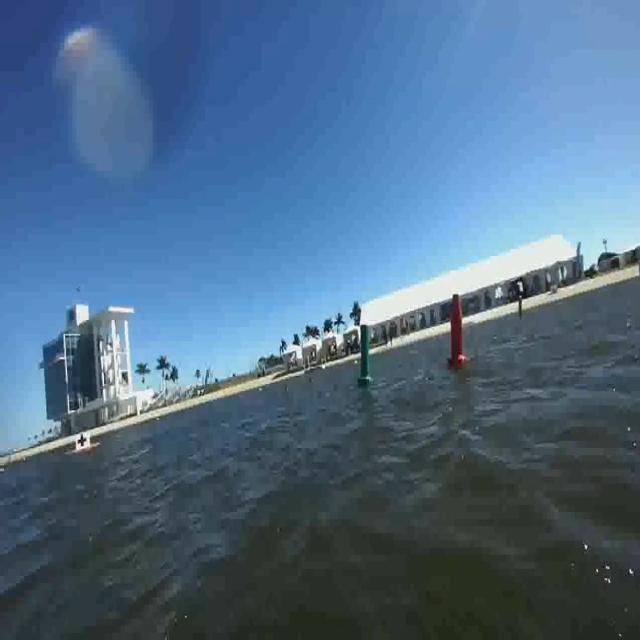green-column-buoy: (358, 323, 372, 386)
red-column-buoy: (447, 292, 468, 366)
